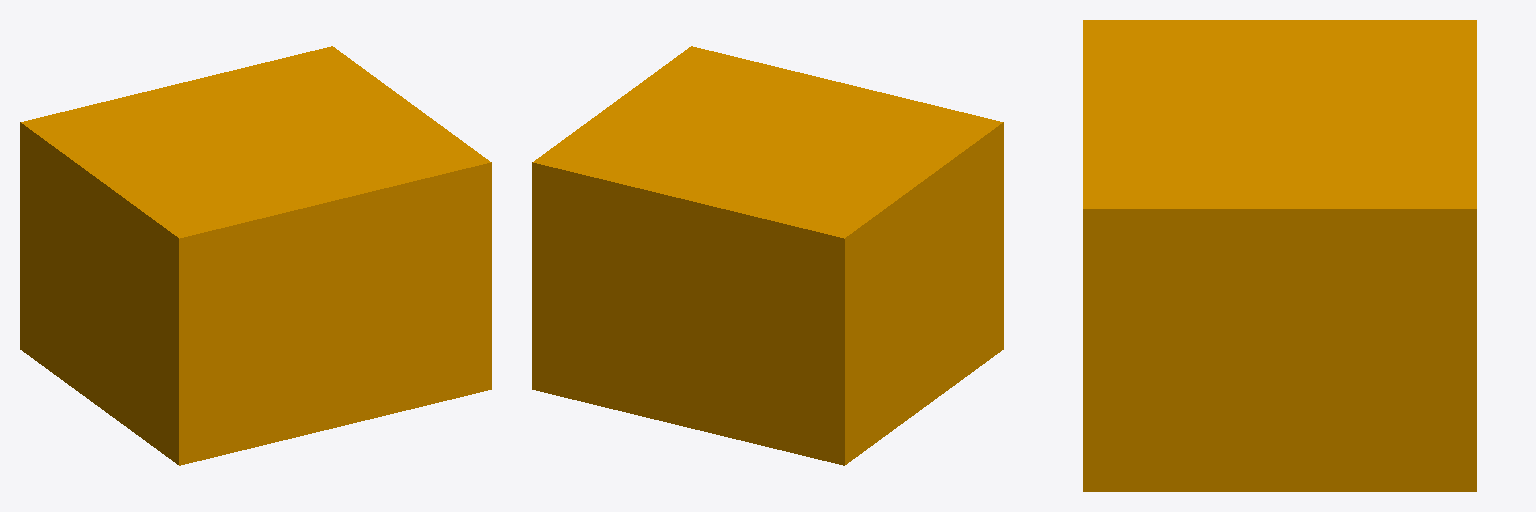
URDF robot description (object):
<?xml version="1.0"?>
<!-- Auto-generated by tools/gen_primitive_objects.py. kind=box dims=(0.0805, 0.070956, 0.056023) -->
<robot name="object">
  <link name="object">
    <visual>
      <origin xyz="0 0 0"/>
      <geometry>
        <box size="0.080500 0.070956 0.056023"/>
      </geometry>
    </visual>
    <collision>
      <origin xyz="0 0 0"/>
      <geometry>
        <box size="0.080500 0.070956 0.056023"/>
      </geometry>
    </collision>
    <inertial>
      <mass value="0.064000"/>
      <inertia ixx="0.00004359" ixy="0.0" ixz="0.0" iyy="0.00005130" iyz="0.0" izz="0.00006141"/>
    </inertial>
  </link>
</robot>

--- Render facts (derived) ---
The picture shows the robot from 3 angles, left to right: view 1: azimuth 30°, elevation 25°; view 2: azimuth 150°, elevation 25°; view 3: azimuth 270°, elevation 25°; orthographic projection.
Robot: object — 1 links, 0 joints (none); root link object; default pose: all joints at 0.
Links seen in each view (by area): view 1: object; view 2: object; view 3: object.
Link boxes in pixels (x1,y1,x2,y2): object: (20, 46, 491, 465); object: (532, 46, 1003, 465); object: (1083, 20, 1476, 491).
Size in the robot's own frame: 0.0805 by 0.071 by 0.056 metres.
Geometry: primitives only (box / cylinder / sphere), no mesh files.
